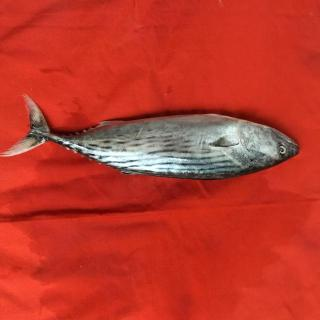Ikan: (13, 90, 305, 192)
